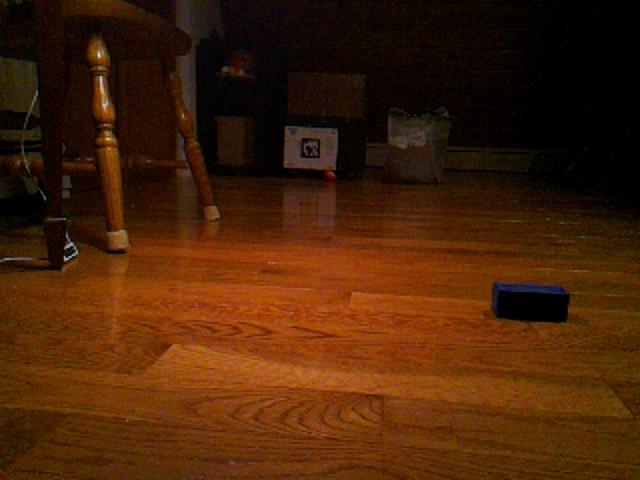blue: (490, 279, 571, 324)
